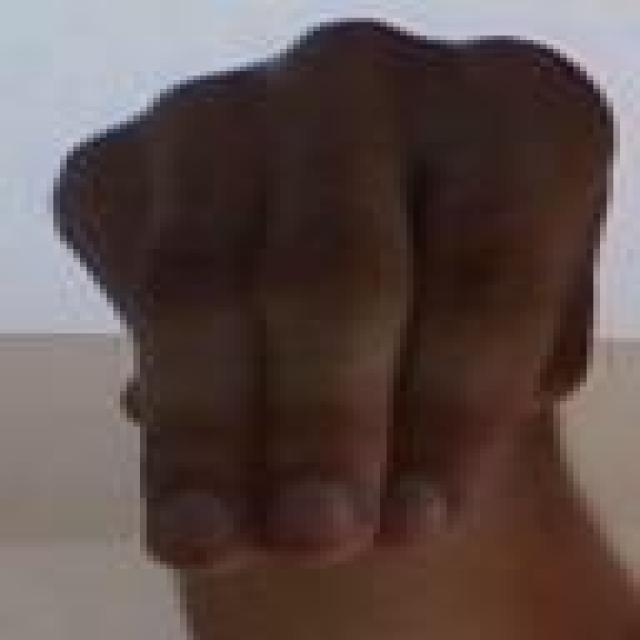M: (11, 6, 613, 612)
